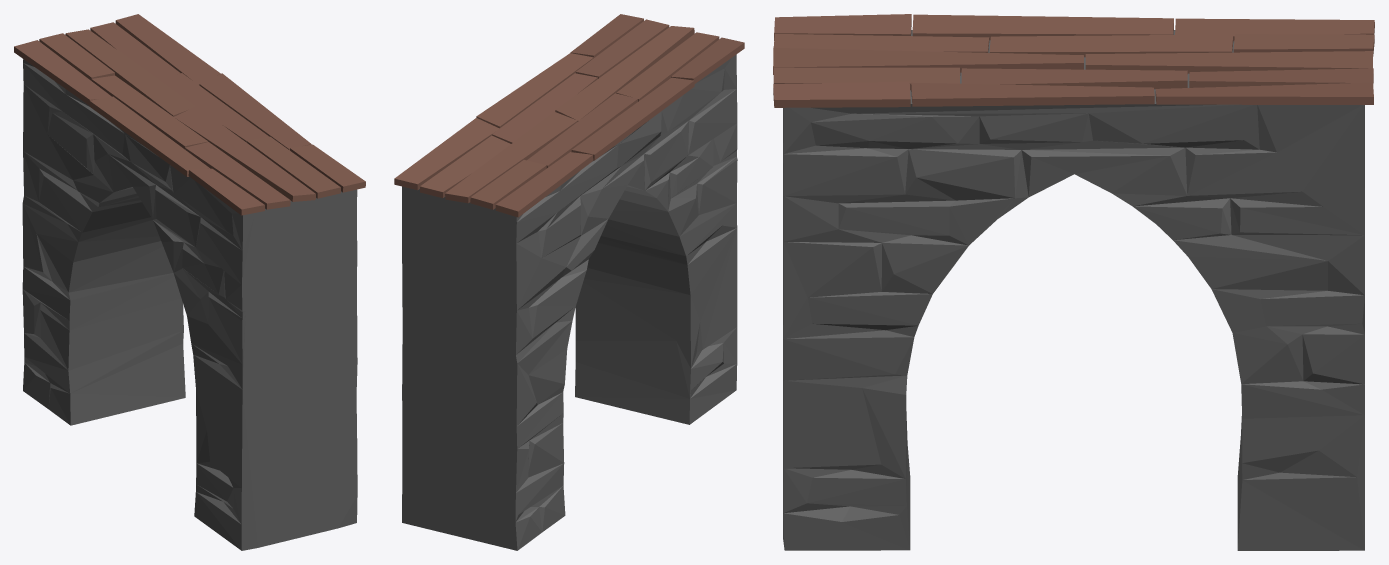
File: CivilianBridge01.fbx
The picture shows the model from 3 angles, left to right: view 1: azimuth 30°, elevation 25°; view 2: azimuth 150°, elevation 25°; view 3: azimuth 270°, elevation 25°; orthographic projection. The views are drawn at different scales.
Visible parts, largest first — view 1: civilian_bridge_4_a_LOD0; view 2: civilian_bridge_4_a_LOD0; view 3: civilian_bridge_4_a_LOD0.
Part boxes in pixels (x1=…): civilian_bridge_4_a_LOD0: x1=14, y1=14, x2=365, y2=550; civilian_bridge_4_a_LOD0: x1=394, y1=14, x2=744, y2=550; civilian_bridge_4_a_LOD0: x1=773, y1=14, x2=1374, y2=550.
Size of what is drawn, in the model's own units: 220 by 575 by 682.
